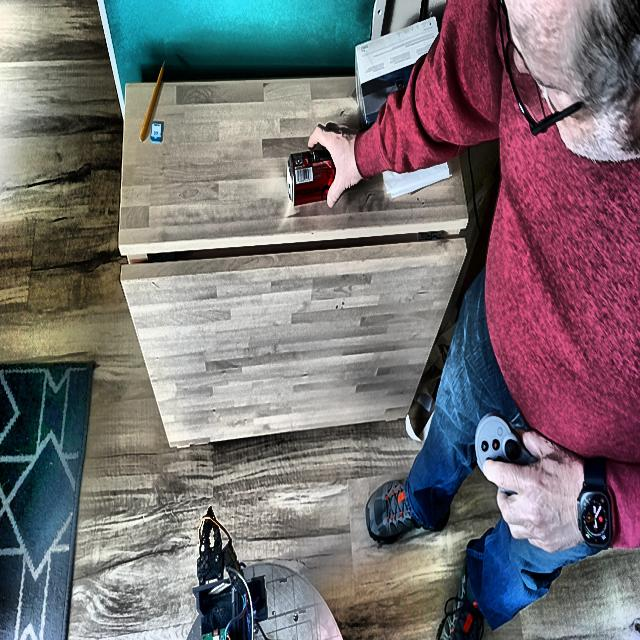Can: (288, 149, 336, 205)
